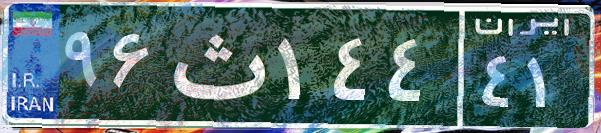1: (273, 28, 330, 110), (525, 38, 570, 115)
4: (385, 28, 445, 110), (330, 28, 385, 110), (475, 38, 525, 113)
6: (110, 28, 158, 105)
9: (57, 26, 110, 107)
ث: (158, 15, 273, 115)
